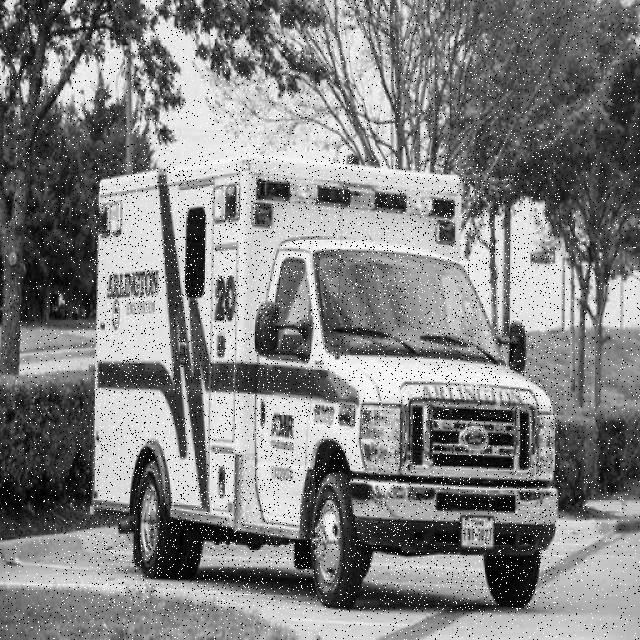Ambulance: (92, 156, 559, 611)
